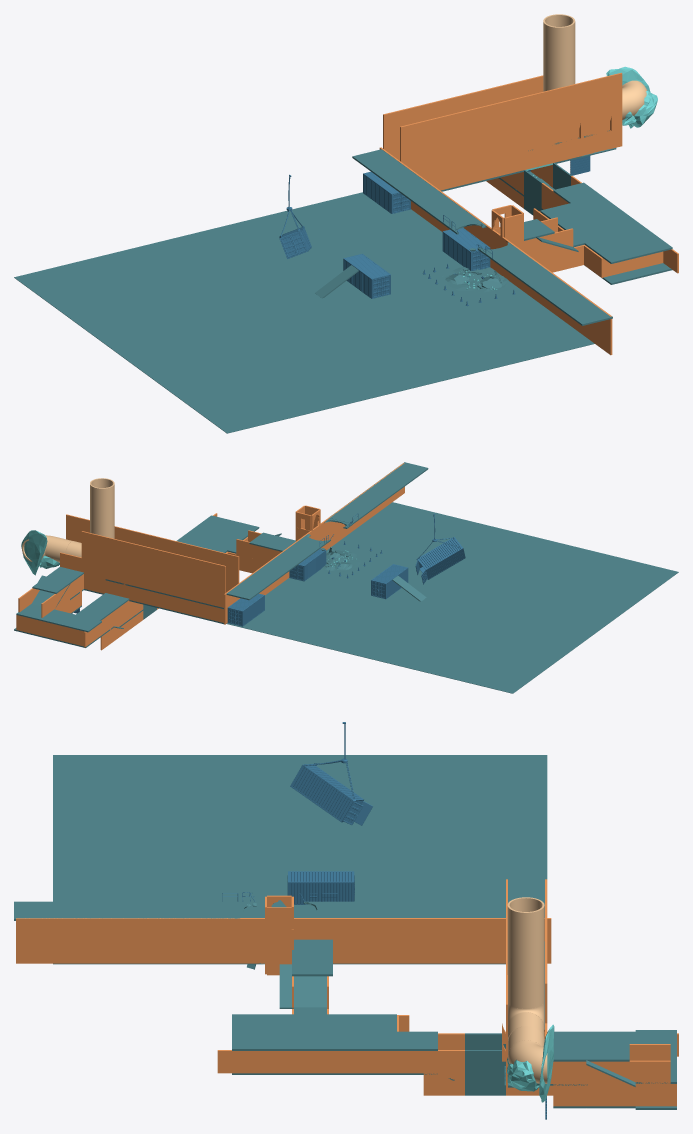
Rendered from Location.fbx.
3 views of the same model, one above another, from view 1: azimuth 30°, elevation 25°; view 2: azimuth 150°, elevation 25°; view 3: azimuth 270°, elevation 25° (orthographic). The views are drawn at different scales.
Visible parts, largest first — view 1: Tri_Floor__Tri_Planar_, Tri_Wall__Tri_Planar___1_, Tri_Wall__Tri_Planar_, Tri_Floor__Tri_Planar___2_, Tri_Floor__Tri_Planar___1_, Tri_Wall__Tri_Planar__2, Tube_8x8x9, Shipping_Container_2, Shipping_Container_1, Shipping_Container_3, Ground_Sphere_Large_8x02x8, Floor_5x_025x40__3_; view 2: Tri_Floor__Tri_Planar_, Tri_Wall__Tri_Planar_, Tri_Wall__Tri_Planar___1_, Tri_Floor__Tri_Planar___2_, Tri_Floor__Tri_Planar___1_, Tri_Wall__Tri_Planar__2, Tube_8x8x9, Shipping_Container__1_, Tri_Wall__Tri_Planar__1, Rock_Flatbottom_Med_T1_4x4x5, Shipping_Container_3, Shipping_Container_1 (+9 smaller); view 3: Tri_Floor__Tri_Planar_, Tri_Wall__Tri_Planar__2, Tube_8x8x9, Tri_Floor__Tri_Planar___2_, Tri_Floor__Tri_Planar___1_, Shipping_Container_1, Shipping_Container__1_, Wall_025x3x31, Wall_025x3x38, Tube_Bend_10x8x11, Wall_025x3x32__12_, Wall_025x3x7 (+31 smaller).
Boxes of the visible parts, x1,y1,x2,y2 form: Tri_Floor__Tri_Planar_: (14, 192, 594, 433); Tri_Wall__Tri_Planar___1_: (400, 72, 622, 190); Tri_Wall__Tri_Planar_: (383, 75, 543, 160); Tri_Floor__Tri_Planar___2_: (484, 246, 612, 325); Tri_Floor__Tri_Planar___1_: (352, 149, 478, 228); Tri_Wall__Tri_Planar__2: (398, 160, 612, 355); Tube_8x8x9: (543, 14, 575, 91); Shipping_Container_2: (442, 228, 490, 270); Shipping_Container_1: (343, 253, 390, 298); Shipping_Container_3: (363, 171, 410, 213); Ground_Sphere_Large_8x02x8: (444, 267, 507, 292); Floor_5x_025x40__3_: (593, 242, 641, 263); Tri_Floor__Tri_Planar_: (226, 502, 678, 693); Tri_Wall__Tri_Planar_: (81, 531, 225, 622); Tri_Wall__Tri_Planar___1_: (66, 514, 239, 592); Tri_Floor__Tri_Planar___2_: (330, 462, 428, 524); Tri_Floor__Tri_Planar___1_: (226, 538, 325, 600); Tri_Wall__Tri_Planar__2: (238, 463, 404, 598); Tube_8x8x9: (90, 478, 114, 538); Shipping_Container__1_: (418, 537, 465, 579); Tri_Wall__Tri_Planar__1: (16, 615, 86, 646); Rock_Flatbottom_Med_T1_4x4x5: (21, 530, 47, 575); Shipping_Container_3: (227, 593, 264, 626); Shipping_Container_1: (371, 564, 408, 599); Tri_Floor__Tri_Planar_: (53, 755, 547, 964); Tri_Wall__Tri_Planar__2: (16, 918, 505, 963); Tube_8x8x9: (507, 897, 544, 1008); Tri_Floor__Tri_Planar___2_: (14, 901, 240, 920); Tri_Floor__Tri_Planar___1_: (320, 901, 544, 917); Shipping_Container_1: (288, 871, 354, 904); Shipping_Container__1_: (290, 764, 363, 822); Wall_025x3x31: (423, 1050, 464, 1073); Wall_025x3x38: (629, 1060, 670, 1083); Tube_Bend_10x8x11: (508, 1040, 547, 1083); Wall_025x3x32__12_: (217, 1050, 258, 1073); Wall_025x3x7: (553, 1084, 594, 1106).
Bounding box in the file's own units: 10302 × 2653 × 8073.
